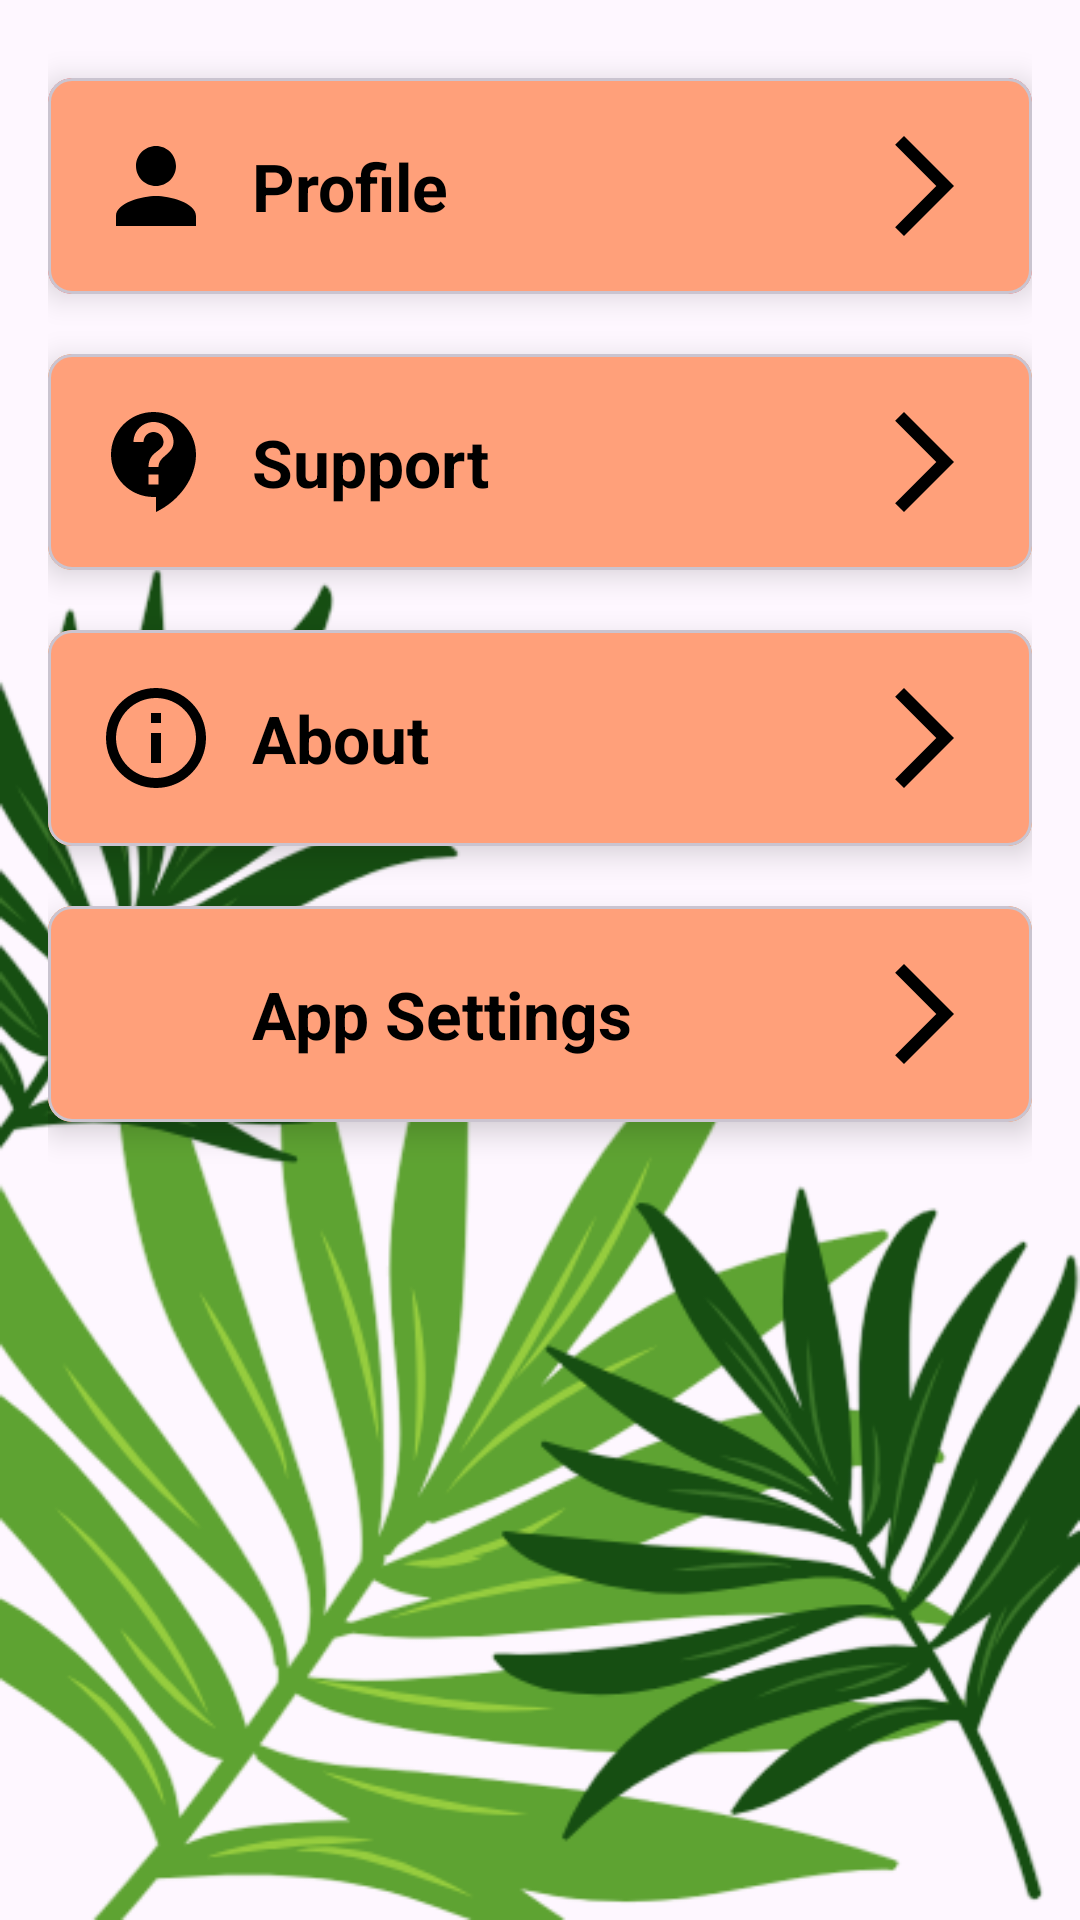

Icons on this 1080x1920 Android screen, each with its box as bbox(x1, y1, x2, y2):
arrow forward: bbox(895, 136, 954, 236), bbox(895, 412, 954, 512), bbox(895, 688, 954, 788), bbox(895, 964, 954, 1064)
info: bbox(106, 688, 206, 788)
user: bbox(116, 146, 196, 226)
